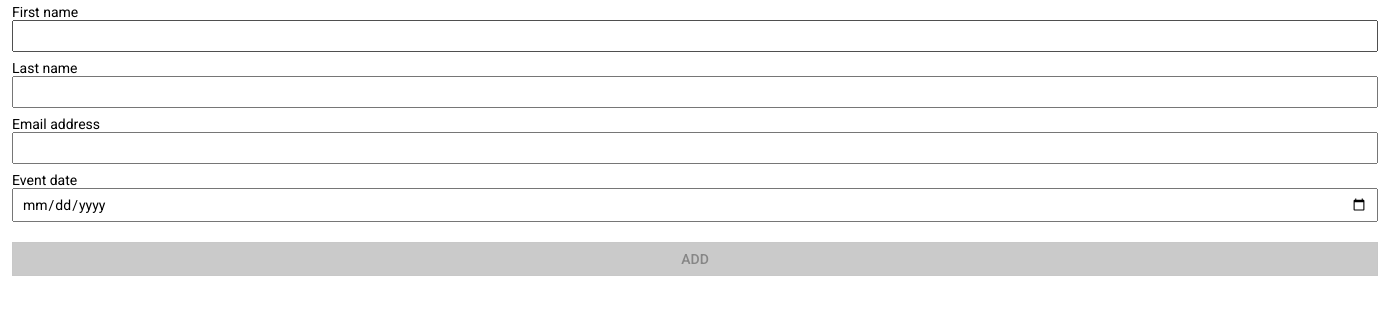
Test: <EventForm> tests › should show error when firstName is cleared after providing some input
Step 1. Type "bartek" into the field labelled "First name" → (695, 36), box [12,20,1378,52]
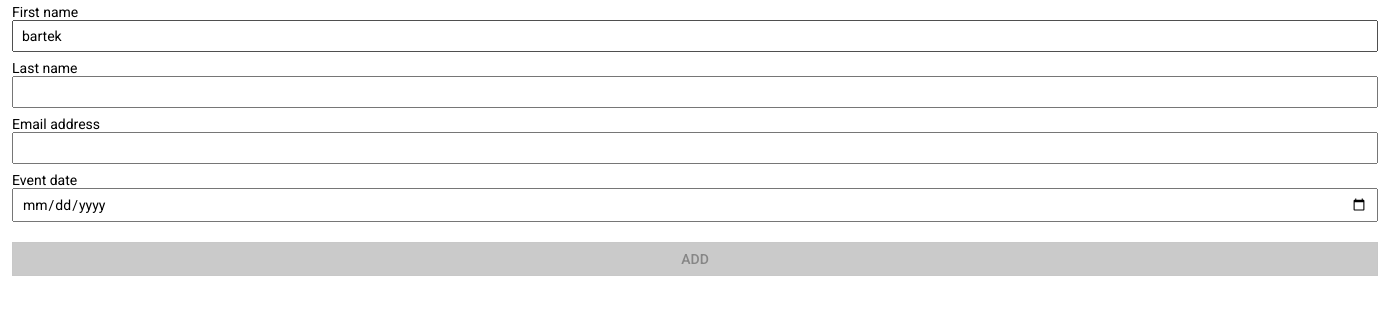
Step 2. Clear the field labelled "First name" → (695, 36), box [12,20,1378,52]
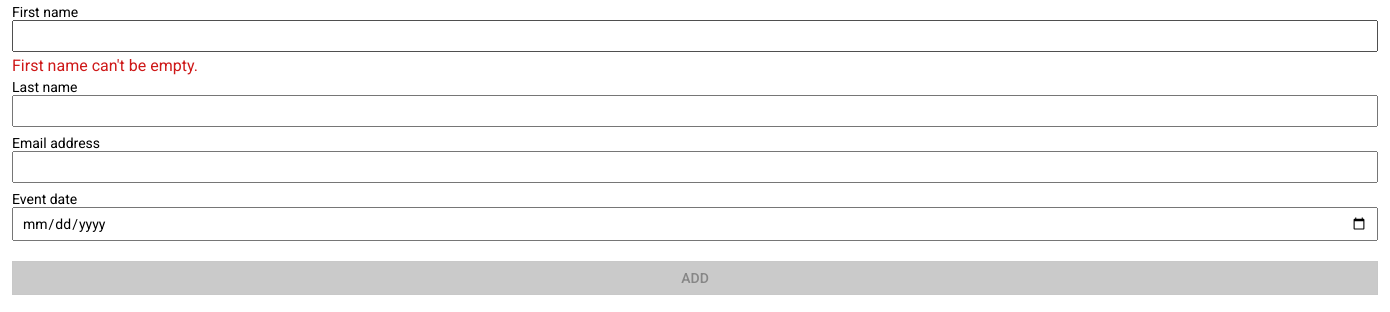
Check: the text "First name can't be empty." is shown, box [12,56,198,75]
